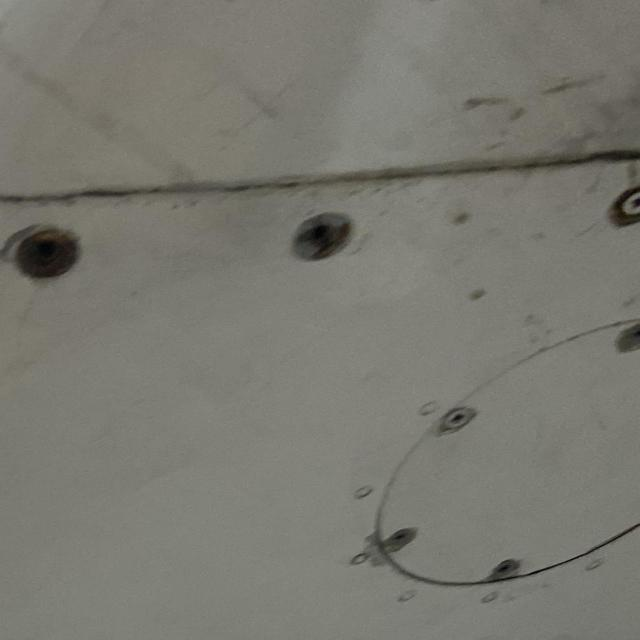Missing-head: (2, 223, 81, 277)
